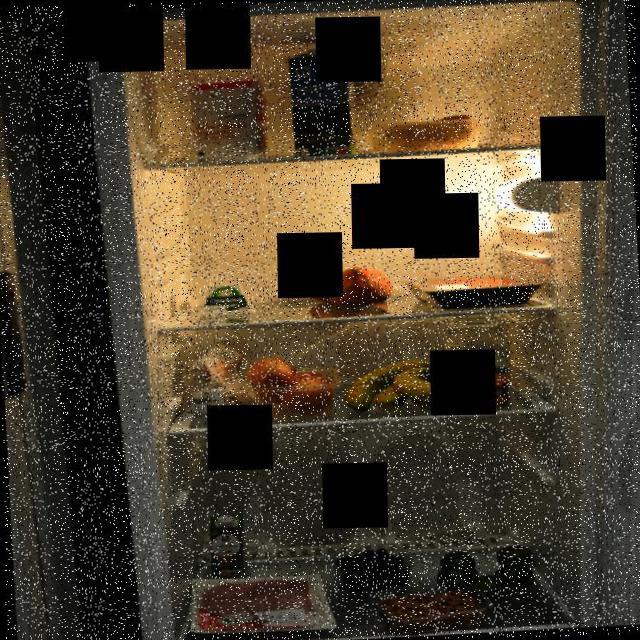Carne cerdo: (186, 568, 338, 638)
Carne vacuno: (398, 270, 545, 311)
Cebolla: (243, 352, 344, 421)
Gambas/Langostinos: (374, 586, 490, 636)
Leche: (284, 43, 361, 163)
Patata: (375, 111, 492, 156)
Plátano: (339, 355, 469, 413)
